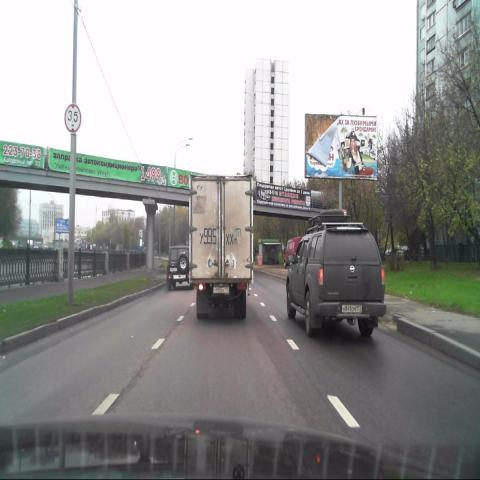3_13: (64, 104, 82, 133)
